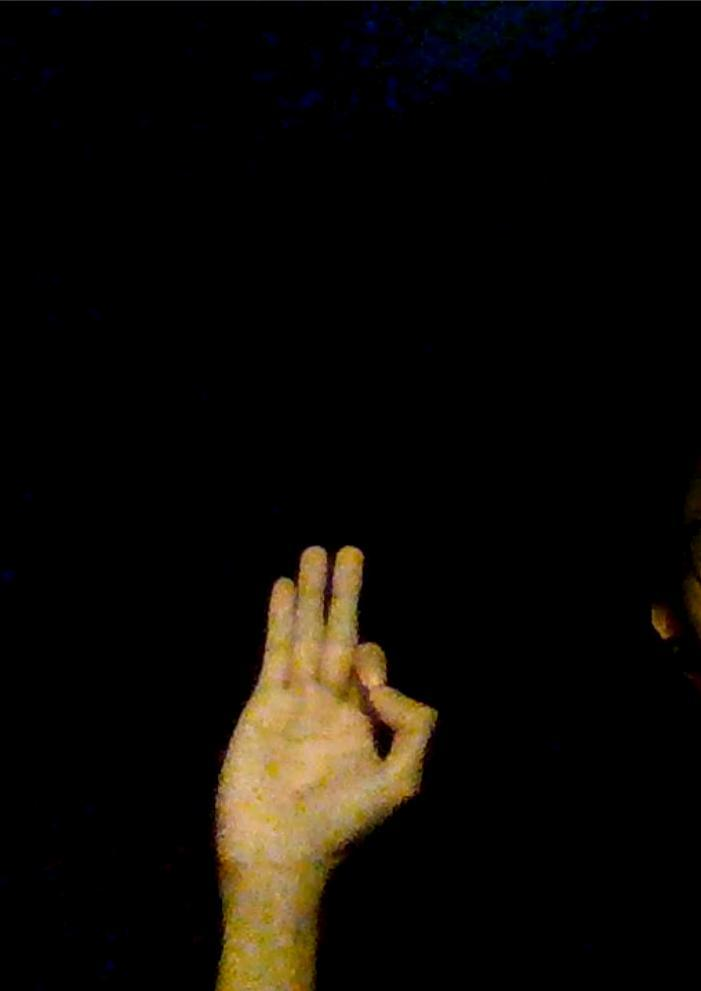f: (212, 540, 437, 875)
